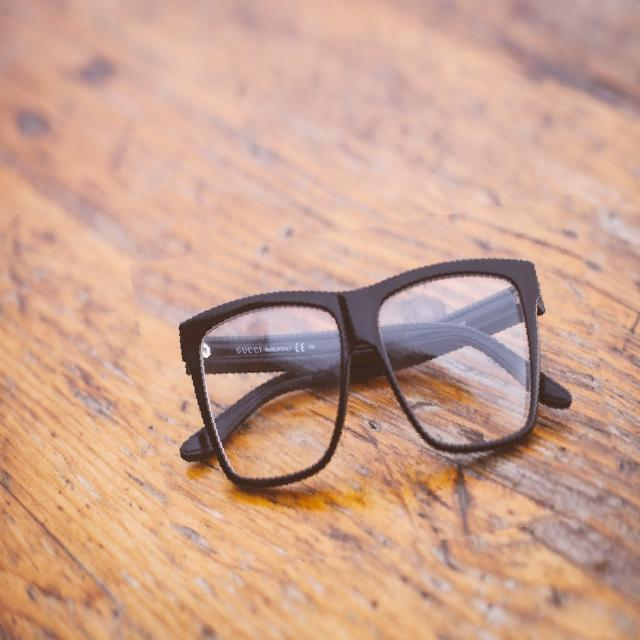glasses: (140, 210, 612, 564)
